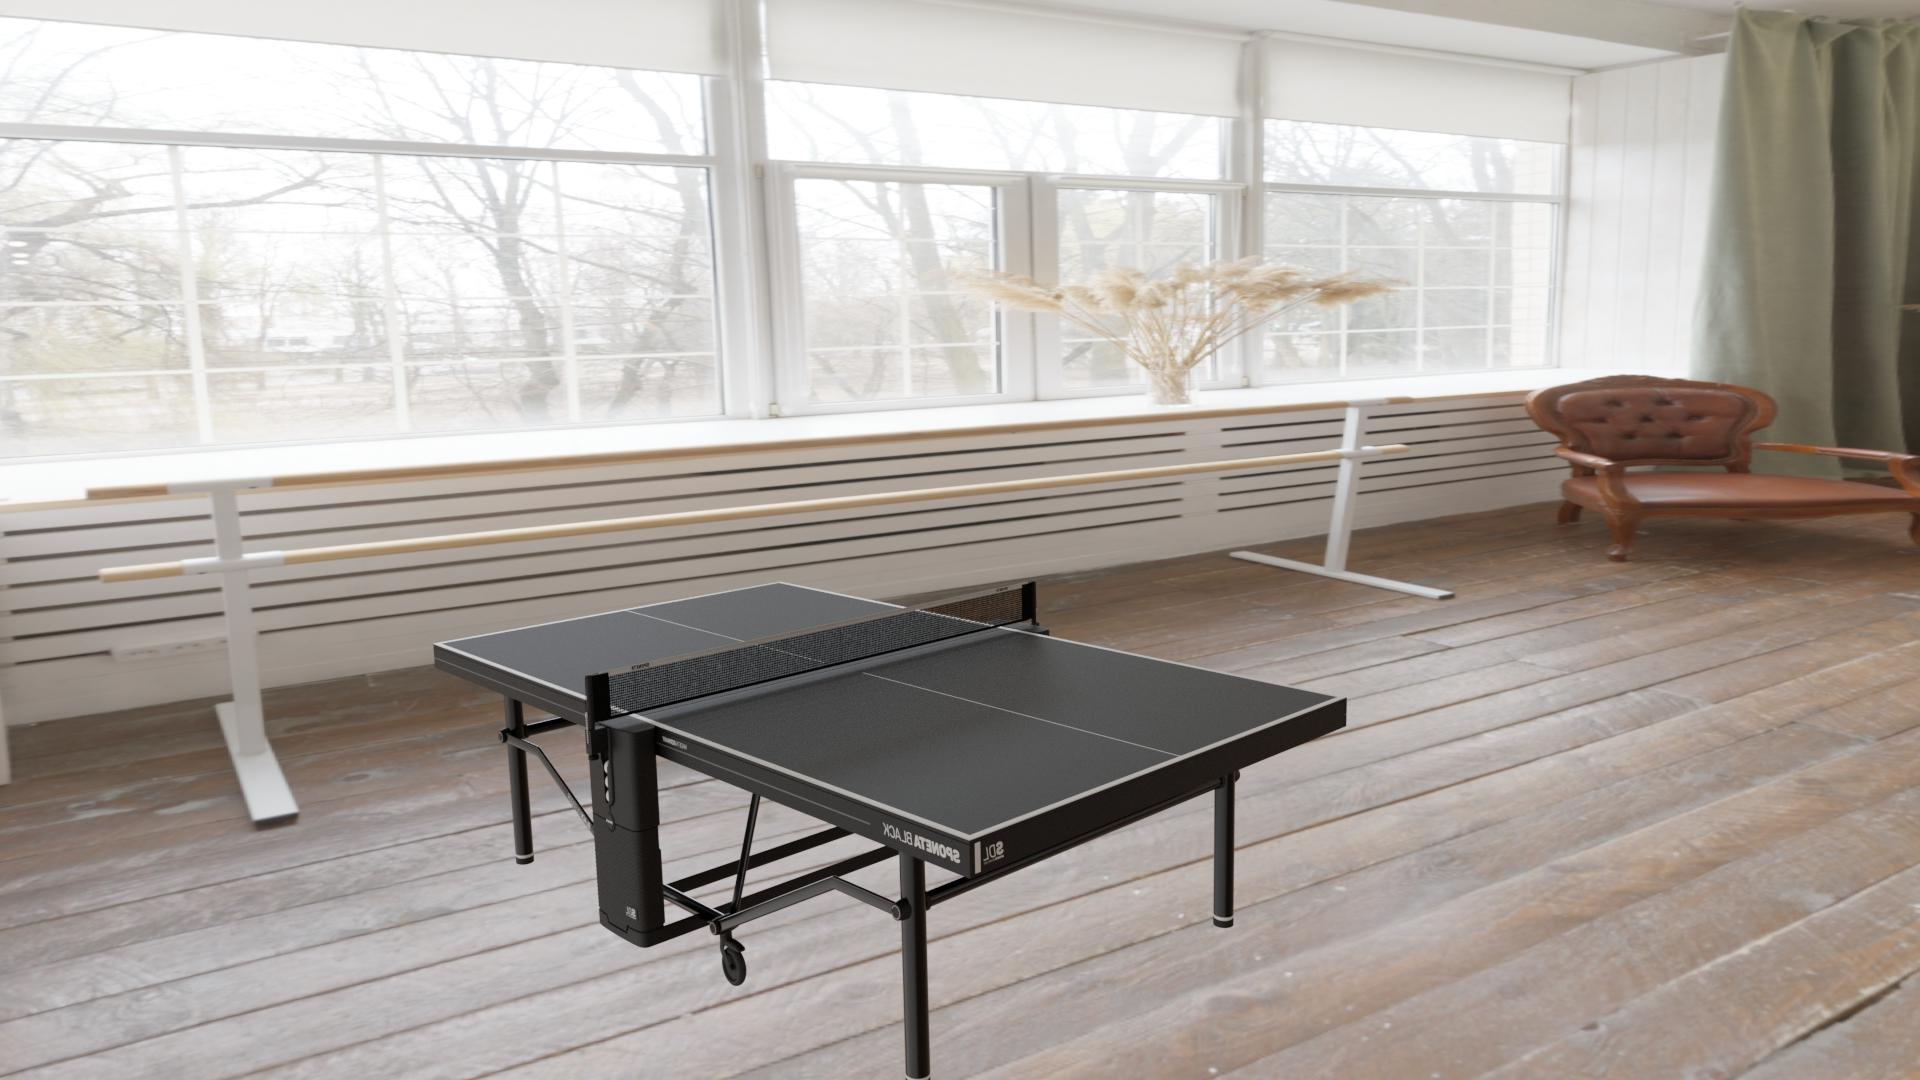table: (440, 583, 1337, 835)
